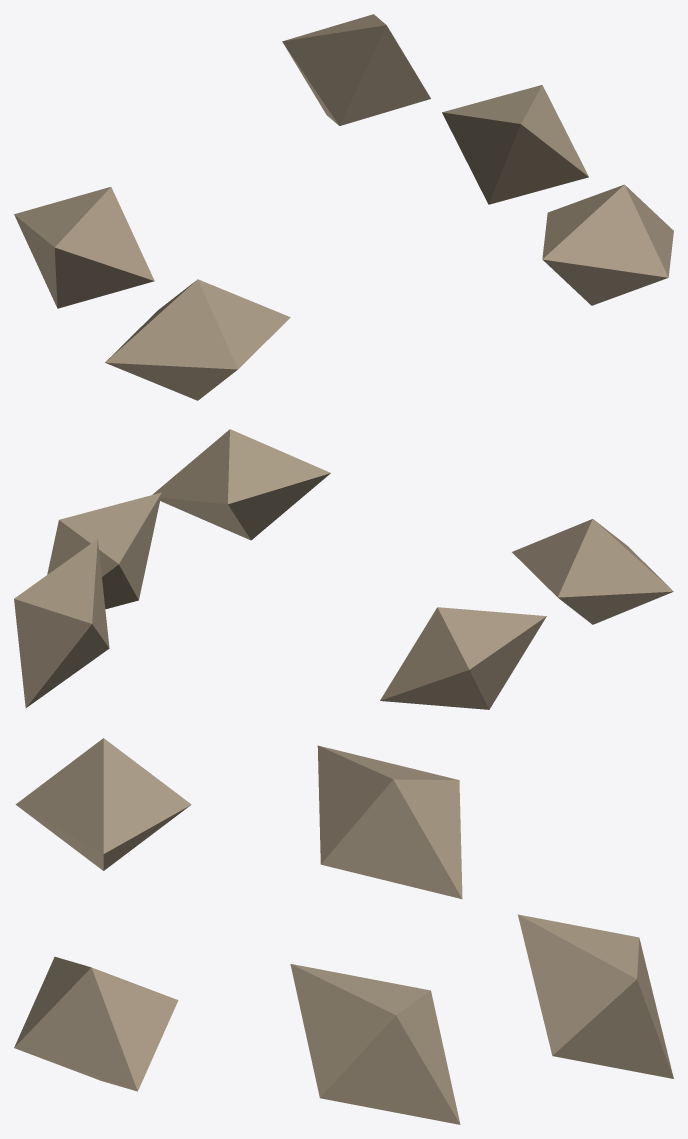
The model's file is Heap_LOD1.fbx.
3 views of the same model, one above another, from view 1: azimuth 30°, elevation 25°; view 2: azimuth 150°, elevation 25°; view 3: azimuth 270°, elevation 25° (orthographic). The views are drawn at different scales.
Visible parts, largest first — view 1: Heap_LOD1; view 2: Heap_LOD1; view 3: Heap_LOD1.
Boxes of the visible parts, left/top/right/bottom form: Heap_LOD1: left=14, top=14, right=673, bottom=400; Heap_LOD1: left=14, top=429, right=673, bottom=709; Heap_LOD1: left=14, top=738, right=673, bottom=1124.
Size of the model in its own units: 1.01 by 0.2383 by 0.8983.
